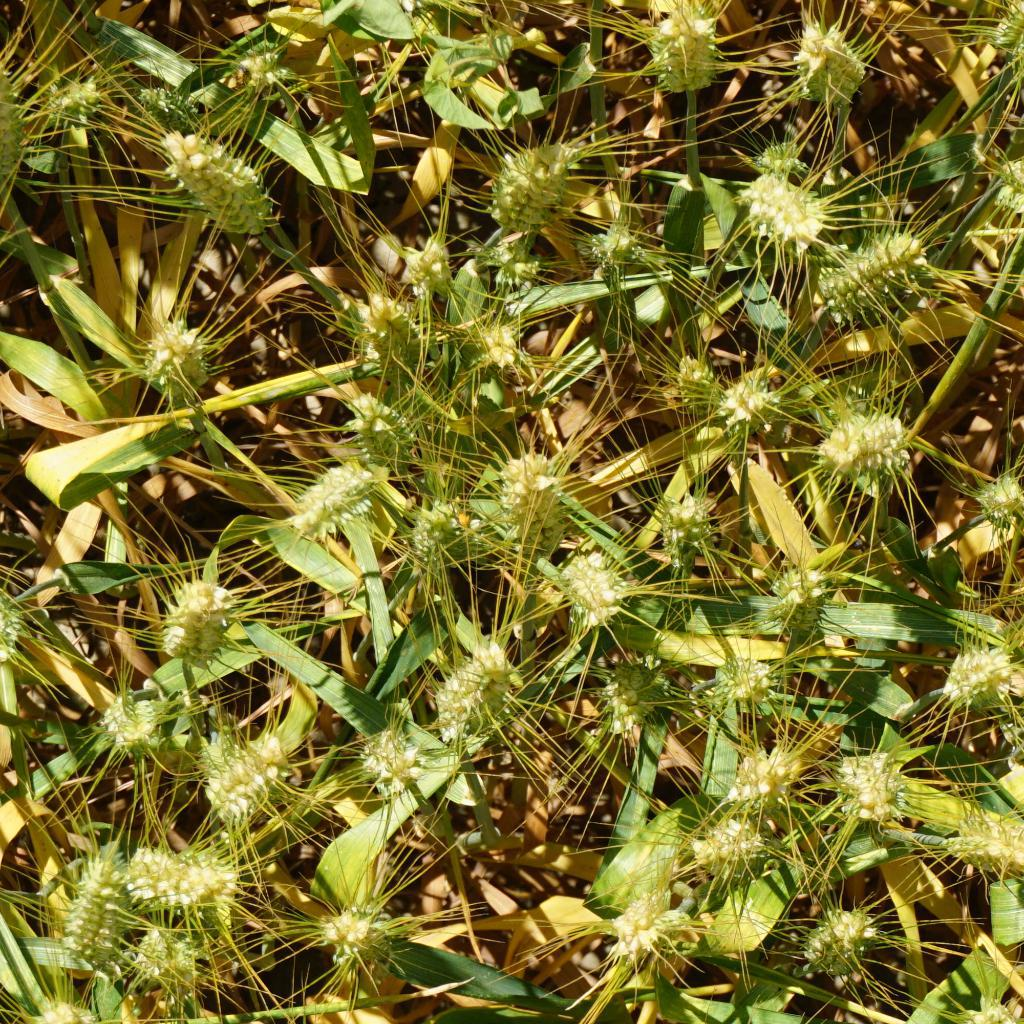0-0: (163, 130, 278, 245), (813, 226, 929, 328), (479, 132, 596, 225), (433, 636, 520, 760), (53, 844, 124, 967), (815, 402, 906, 488), (643, 5, 726, 98), (125, 841, 231, 911), (788, 22, 867, 111), (836, 746, 913, 835), (740, 175, 827, 253), (289, 463, 366, 551), (133, 318, 218, 396), (192, 737, 267, 824), (685, 810, 780, 878), (501, 453, 565, 549), (162, 580, 233, 666), (137, 924, 213, 1003), (363, 291, 424, 386), (318, 901, 399, 972), (402, 487, 472, 567), (937, 641, 1017, 711), (338, 400, 418, 469), (597, 658, 673, 730), (947, 814, 1024, 883), (600, 892, 682, 953), (768, 562, 839, 632), (811, 904, 878, 974), (100, 686, 171, 752), (583, 216, 649, 280), (704, 655, 782, 709), (134, 78, 213, 131), (654, 495, 716, 559), (723, 367, 782, 432), (736, 745, 798, 806), (567, 557, 623, 624), (0, 44, 27, 180), (363, 729, 418, 795), (674, 355, 727, 415), (231, 48, 300, 94), (48, 70, 103, 123), (402, 240, 449, 299), (972, 483, 1024, 536), (475, 321, 531, 369), (988, 153, 1024, 226), (488, 244, 547, 285), (758, 138, 812, 182), (23, 997, 103, 1024), (0, 593, 30, 660), (960, 993, 1017, 1024), (994, 0, 1024, 56)
